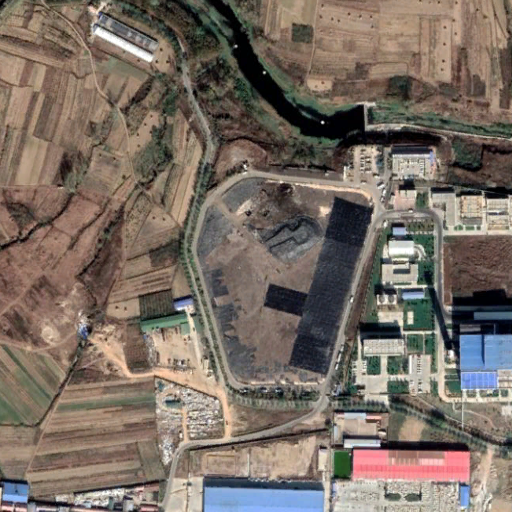lf: (193, 174, 372, 388)
